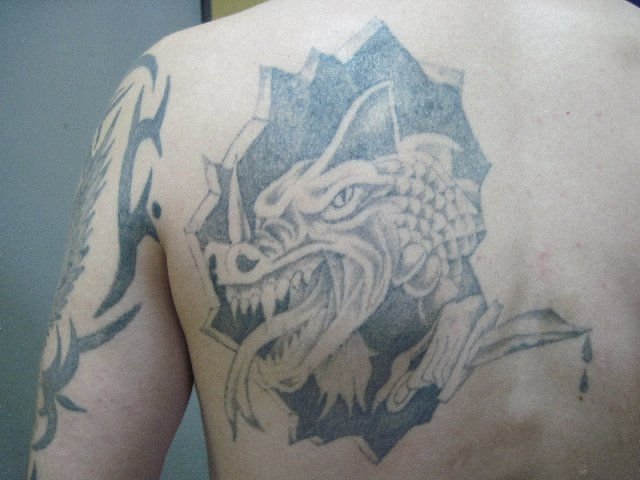tatu6_drakon: (179, 10, 591, 455)
